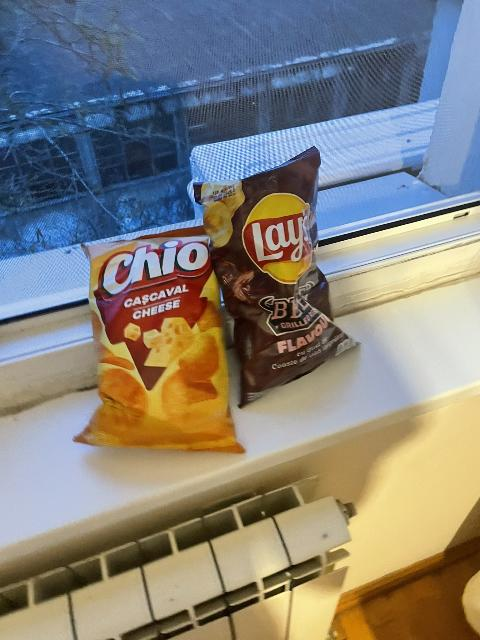Lays Beef Grilled Ribs 125g: (201, 146, 356, 401)
